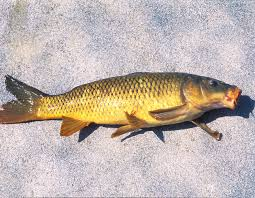carp: (1, 71, 242, 141)
